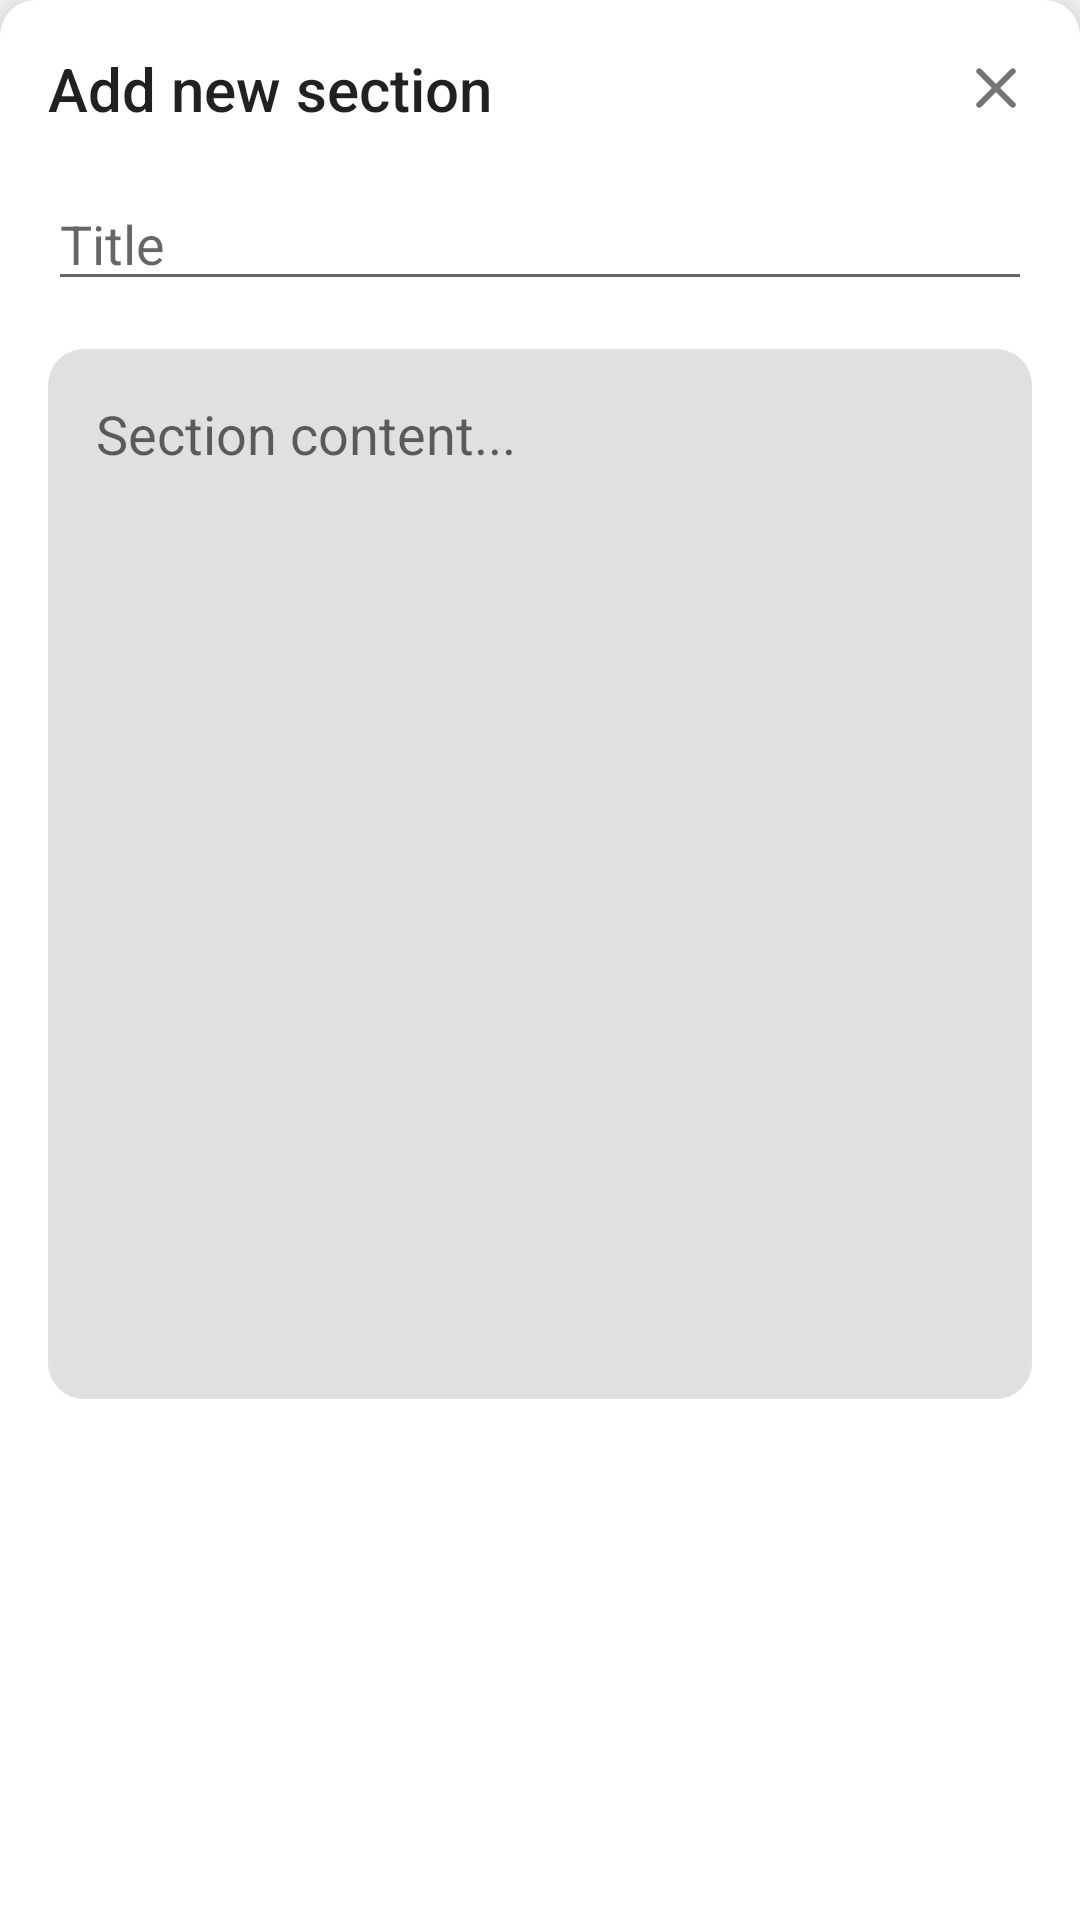

Icons on this 1080×1920 Android screen, each with its box as box(x1, y1, x2, y2):
close: box(976, 68, 1016, 108)
